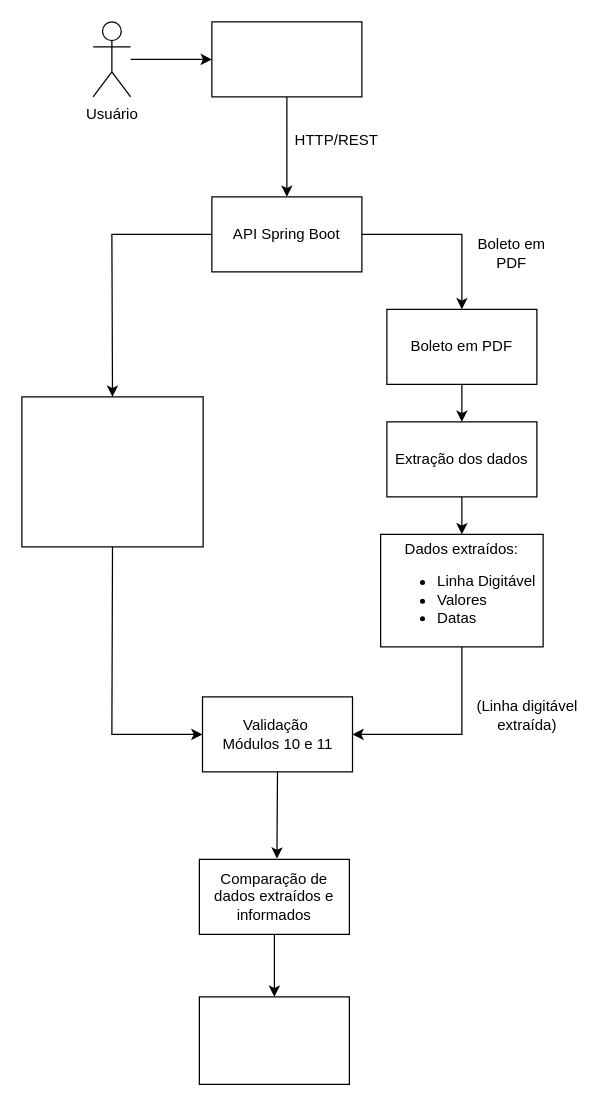
The diagram is 603 pixels wide and 1106 high, and some of its shapes have lost their labels. Here are the shapes that lost their labels. From the top down, the centre of each, then its label:
At (x=286, y=59): "Front-End".
At (x=112, y=471): "Dados infrormados manualmente: Linha Digitável Valor Vencimento Banco".
At (x=273, y=1040): "Resultado Dados Consistentes/ Inconsistentes + divergências".
